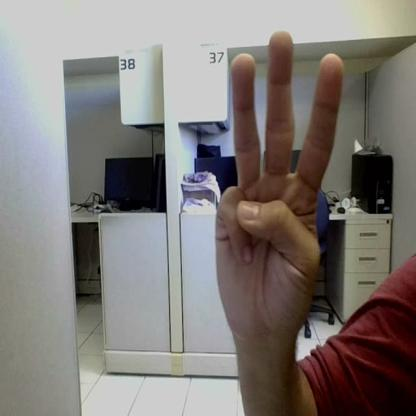W: (216, 32, 343, 320)
